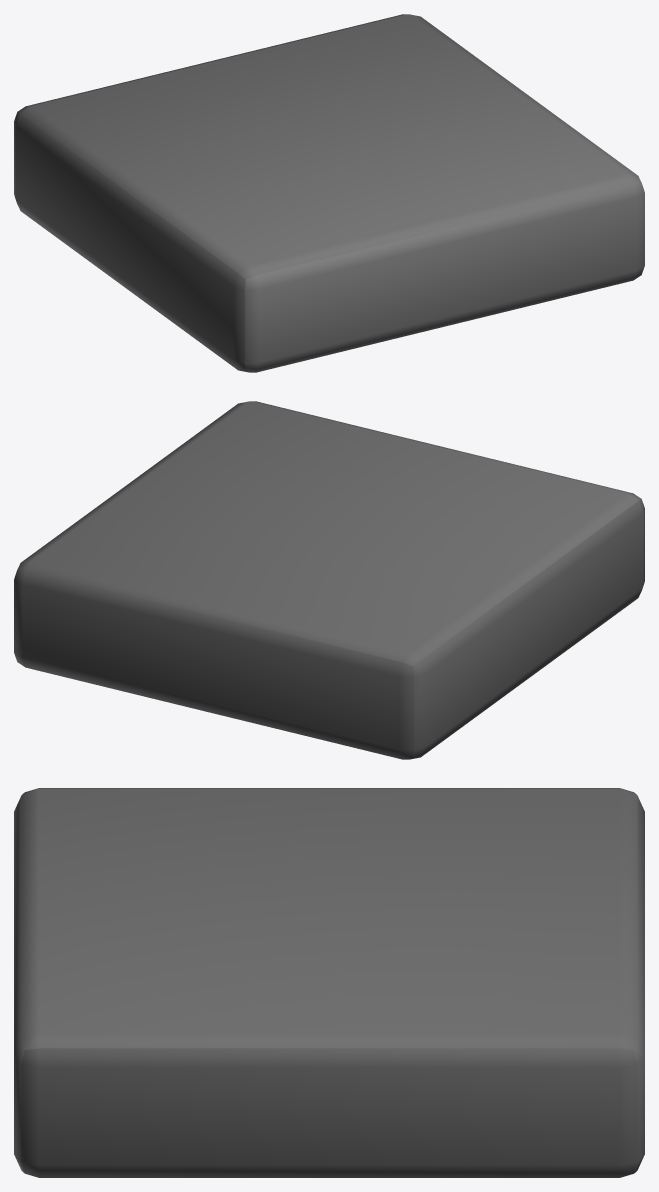
Rendered from TileBlack.fbx.
3 renders of one model, top to bottom at view 1: azimuth 30°, elevation 25°; view 2: azimuth 150°, elevation 25°; view 3: azimuth 270°, elevation 25°, orthographic. The views are drawn at different scales.
Parts seen in each view (by area): view 1: Cube.059; view 2: Cube.059; view 3: Cube.059.
Part boxes in pixels (box(x1,y1,x2,y2)): Cube.059: box(14, 14, 644, 372); Cube.059: box(14, 401, 644, 759); Cube.059: box(14, 788, 644, 1177).
Bounding box in the file's own units: 150 × 37.5 × 150.
